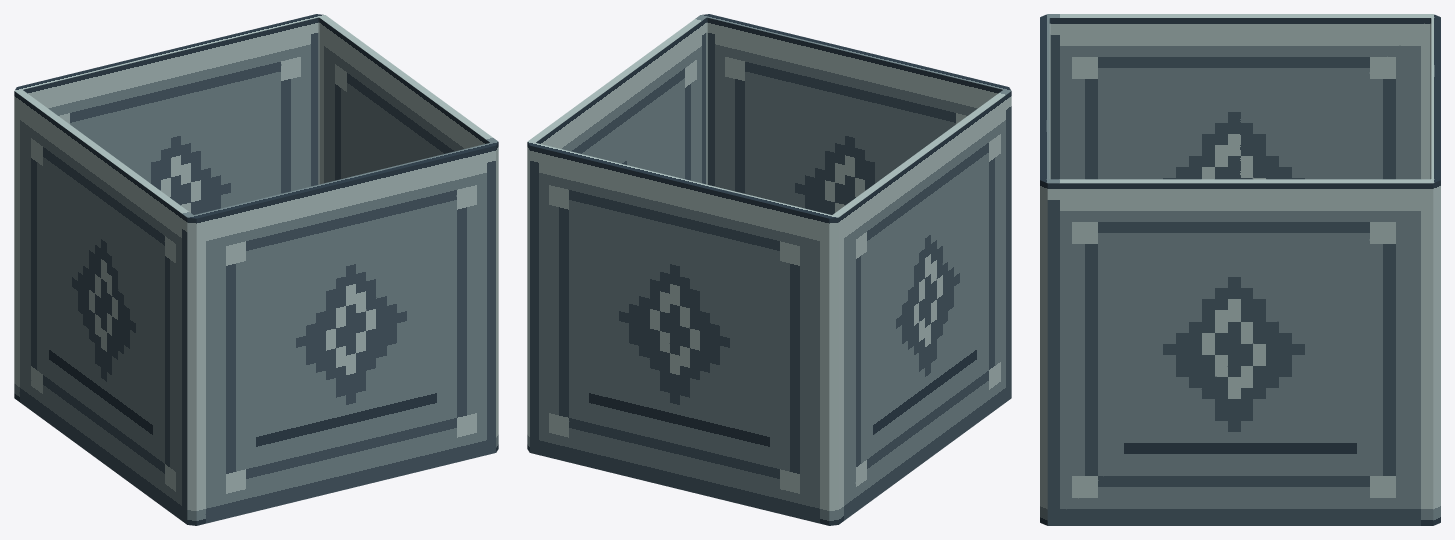
Rendered from wear.gltf.
3 renders of one model, left to right at view 1: azimuth 30°, elevation 25°; view 2: azimuth 150°, elevation 25°; view 3: azimuth 270°, elevation 25°, orthographic. The views are drawn at different scales.
Parts seen in each view (by area): view 1: Armor_Metal_Cylinder.049; view 2: Armor_Metal_Cylinder.049; view 3: Armor_Metal_Cylinder.049.
Boxes of the visible parts, x1,y1,x2,y2 form: Armor_Metal_Cylinder.049: (14, 14, 498, 525); Armor_Metal_Cylinder.049: (527, 14, 1011, 525); Armor_Metal_Cylinder.049: (1040, 14, 1440, 525).
Bounding box in the file's own units: 2.12 × 2 × 2.12.
Materials: 1 (1 with a texture image).
